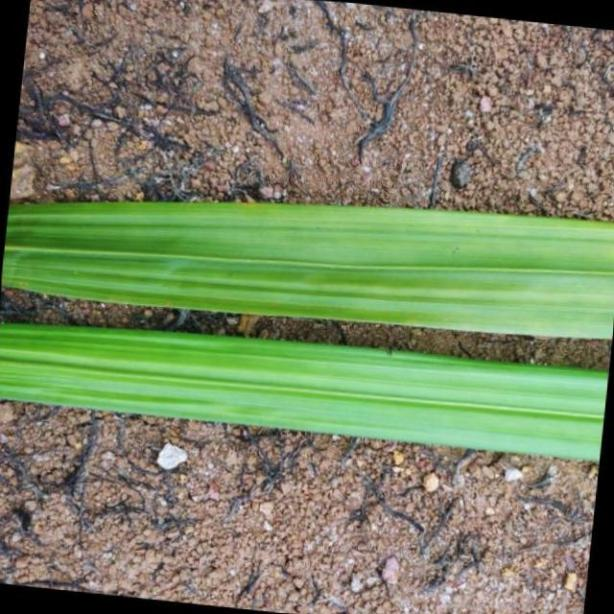nitrogen: (0, 316, 614, 460), (0, 195, 614, 337)
